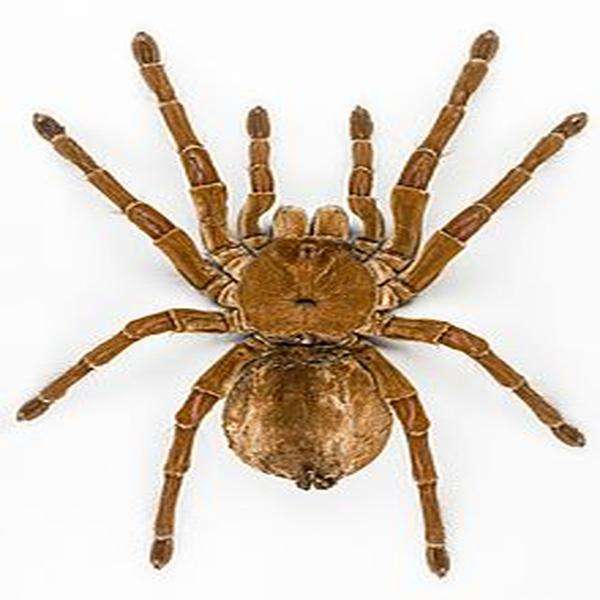Tarantula Spider: (41, 37, 585, 564)
